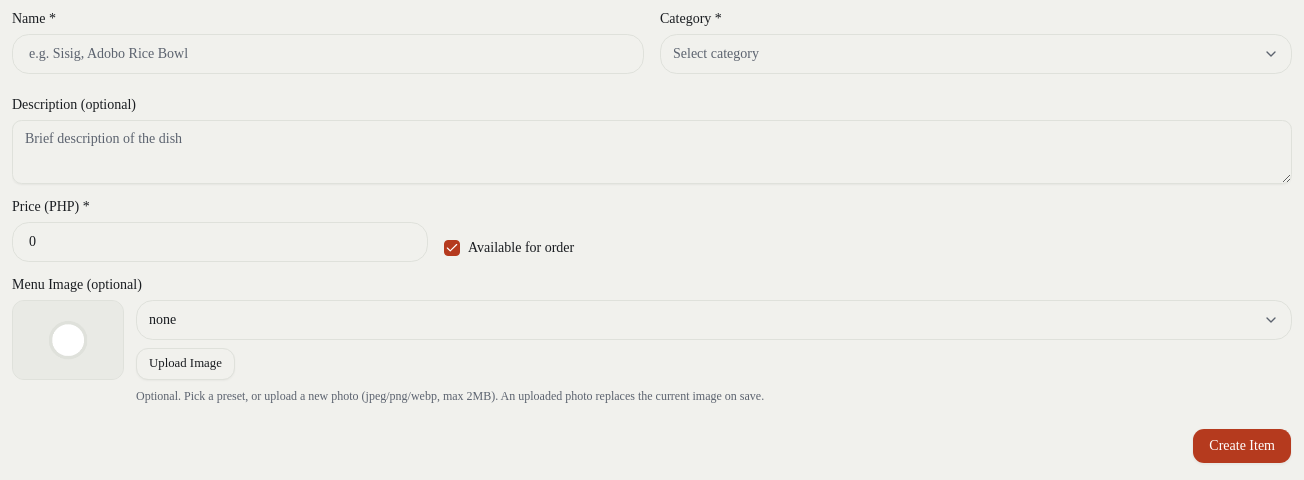
Test: MenuItemForm price validation › add form lists category names, never raw UUIDs
The width and height of the screenshot is (1304, 480).
First combobox is the category selector.
Click the dropdown labelled "Select category ▼": (716, 54) [660, 34, 1292, 74]
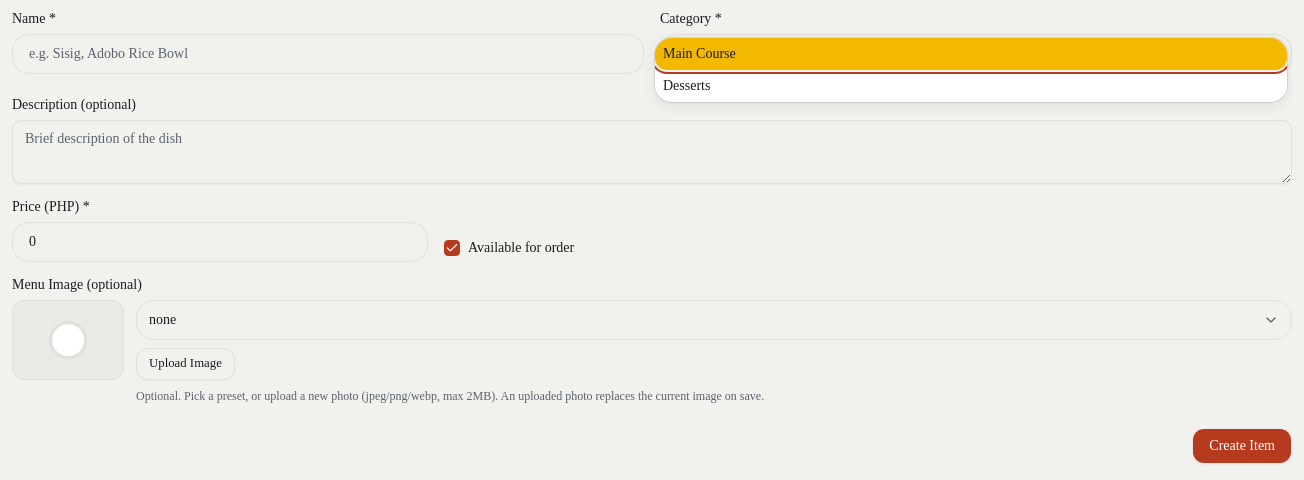
Now the text "Main Course" is shown, box [663, 46, 736, 61]
Now the text "Desserts" is shown, box [663, 78, 710, 93]
